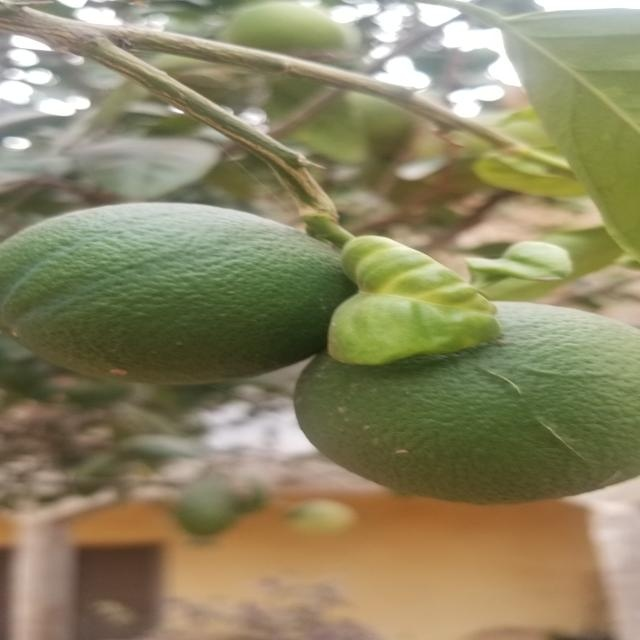agrume: (310, 294, 627, 510), (10, 194, 346, 397)
